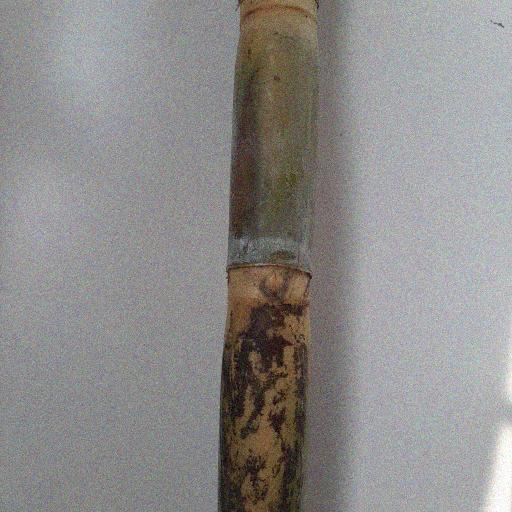Bud: (262, 267, 286, 298)
